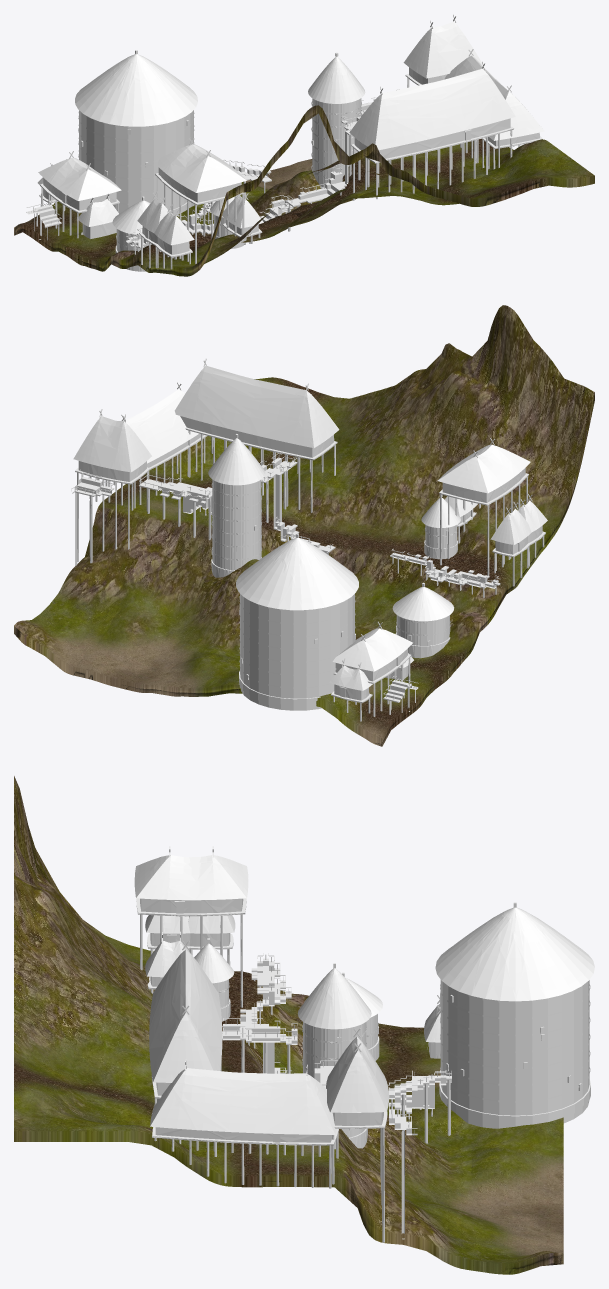
File: chunk_3_2.glb
3 renders of one model, top to bottom at view 1: azimuth 30°, elevation 25°; view 2: azimuth 150°, elevation 25°; view 3: azimuth 270°, elevation 25°, orthographic. The views are drawn at different scales.
Parts seen in each view (by area): view 1: Buildings_L0, Buildings_L1, Terrain_L0, Terrain_L2, Terrain_L1; view 2: Terrain_L2, Buildings_L0, Terrain_L0, Buildings_L1, Terrain_L1; view 3: Buildings_L0, Terrain_L2, Buildings_L1, Terrain_L0, Terrain_L1.
Part boxes in pixels (box(x1,y1,x2,y2)): Buildings_L0: box(27, 14, 540, 271); Buildings_L1: box(26, 22, 544, 271); Terrain_L0: box(14, 105, 594, 276); Terrain_L2: box(16, 106, 594, 275); Terrain_L1: box(14, 106, 594, 275); Terrain_L2: box(14, 316, 586, 746); Buildings_L0: box(71, 358, 546, 721); Terrain_L0: box(14, 305, 594, 746); Buildings_L1: box(73, 365, 547, 721); Terrain_L1: box(14, 316, 594, 746); Buildings_L0: box(134, 846, 590, 1242); Terrain_L2: box(14, 806, 563, 1273); Buildings_L1: box(134, 855, 594, 1242); Terrain_L0: box(14, 776, 563, 1274); Terrain_L1: box(14, 801, 563, 1274).
Bounding box in the file's own units: 102 × 67.1 × 101.
Materials: 4 (1 with a texture image).
